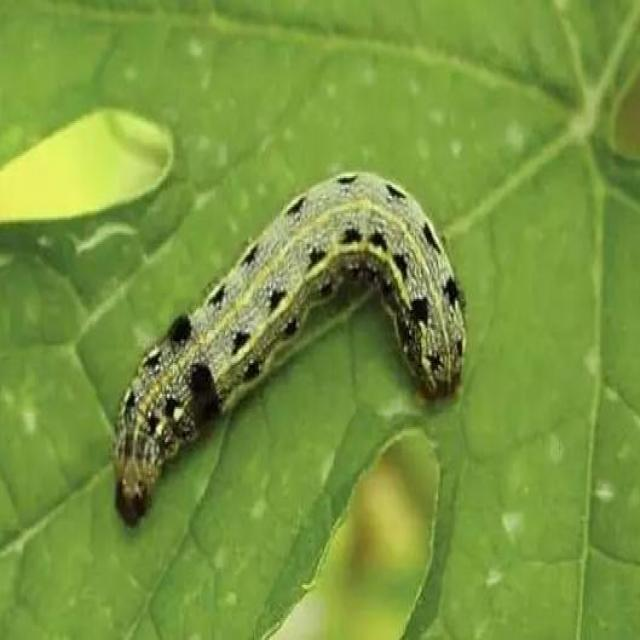Plaga: (92, 153, 479, 535)
